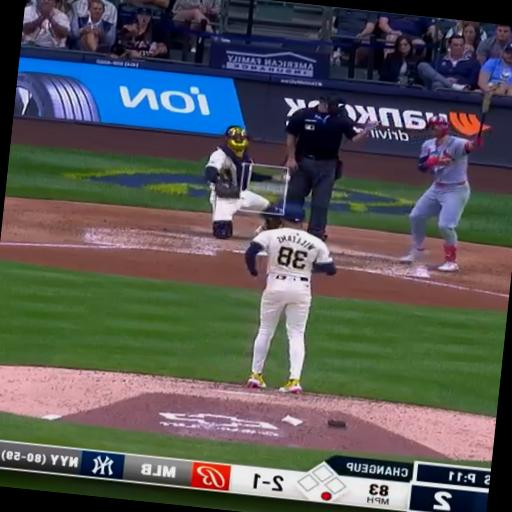bat: (478, 91, 492, 138)
